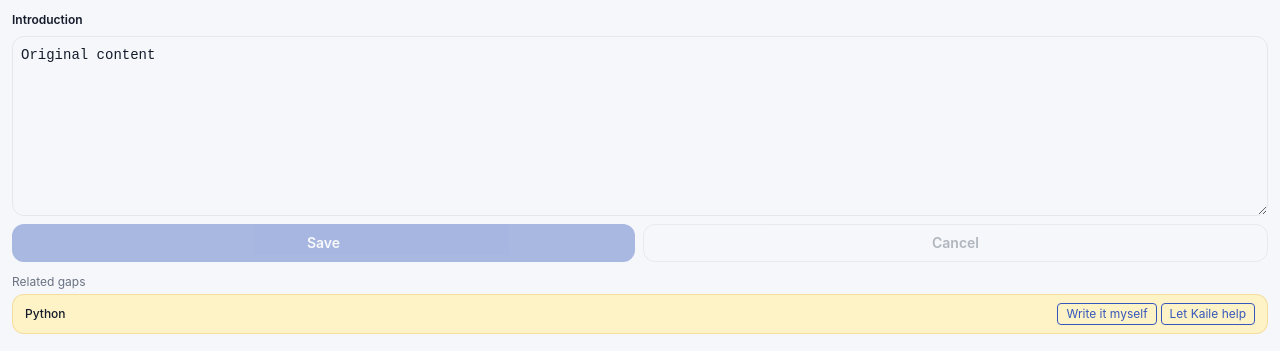
Scenario: SectionEditor › Cancel reverts textarea to original content
Replace the text in the text box with test id "section-textarea" with "New content" at (640, 126), box [12,36,1268,216]
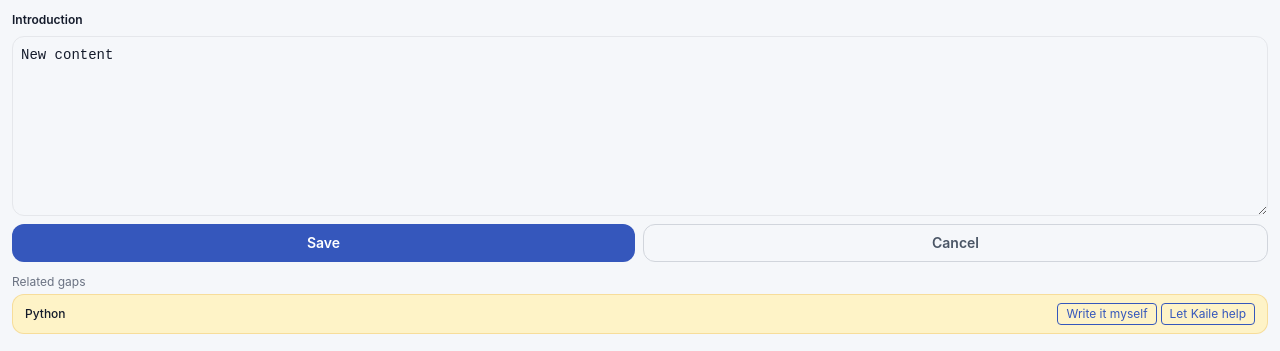
Click the button with test id "section-cancel" at (956, 243), box [643,224,1268,262]
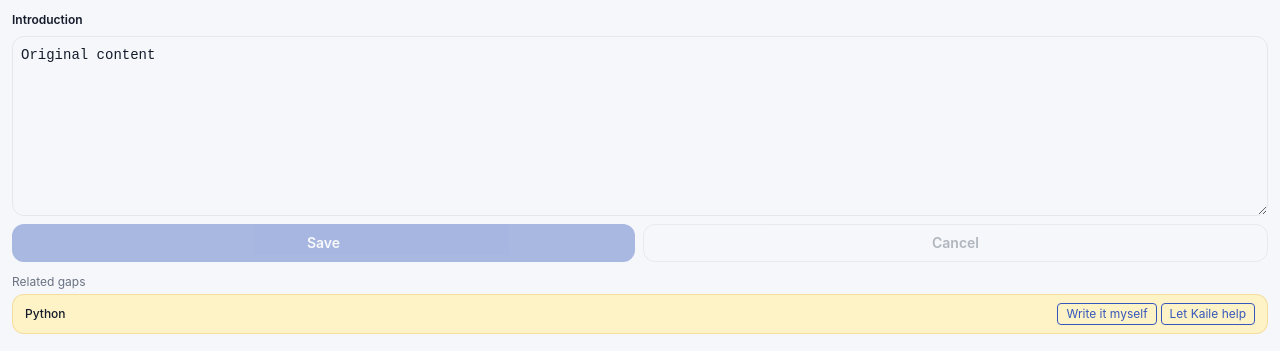
Expected: the text box with test id "section-textarea" holds "Original content", [12,36,1268,216]
